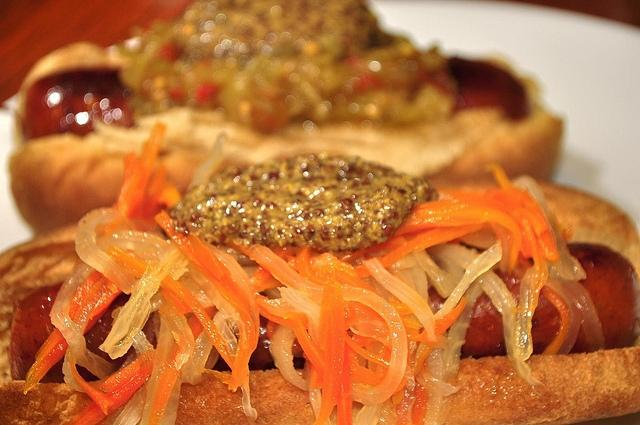carrot: (152, 210, 258, 352), (23, 269, 123, 394), (438, 184, 560, 262), (394, 204, 523, 276), (147, 306, 218, 425), (190, 265, 254, 392), (380, 222, 515, 274), (412, 292, 469, 378), (97, 348, 157, 393), (71, 358, 114, 416), (291, 312, 325, 379), (540, 284, 570, 355), (345, 330, 390, 370), (296, 246, 342, 285), (332, 280, 346, 399), (138, 166, 168, 219), (344, 340, 378, 386), (502, 210, 532, 258), (318, 252, 360, 279), (160, 281, 192, 314), (126, 164, 148, 206), (483, 161, 515, 186)
